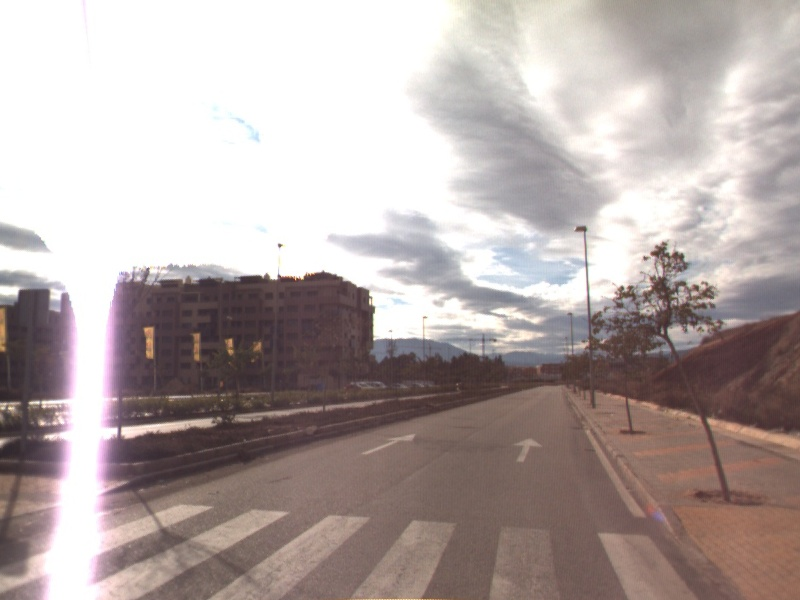STRAIGHT: (359, 432, 417, 456), (511, 435, 545, 464)
